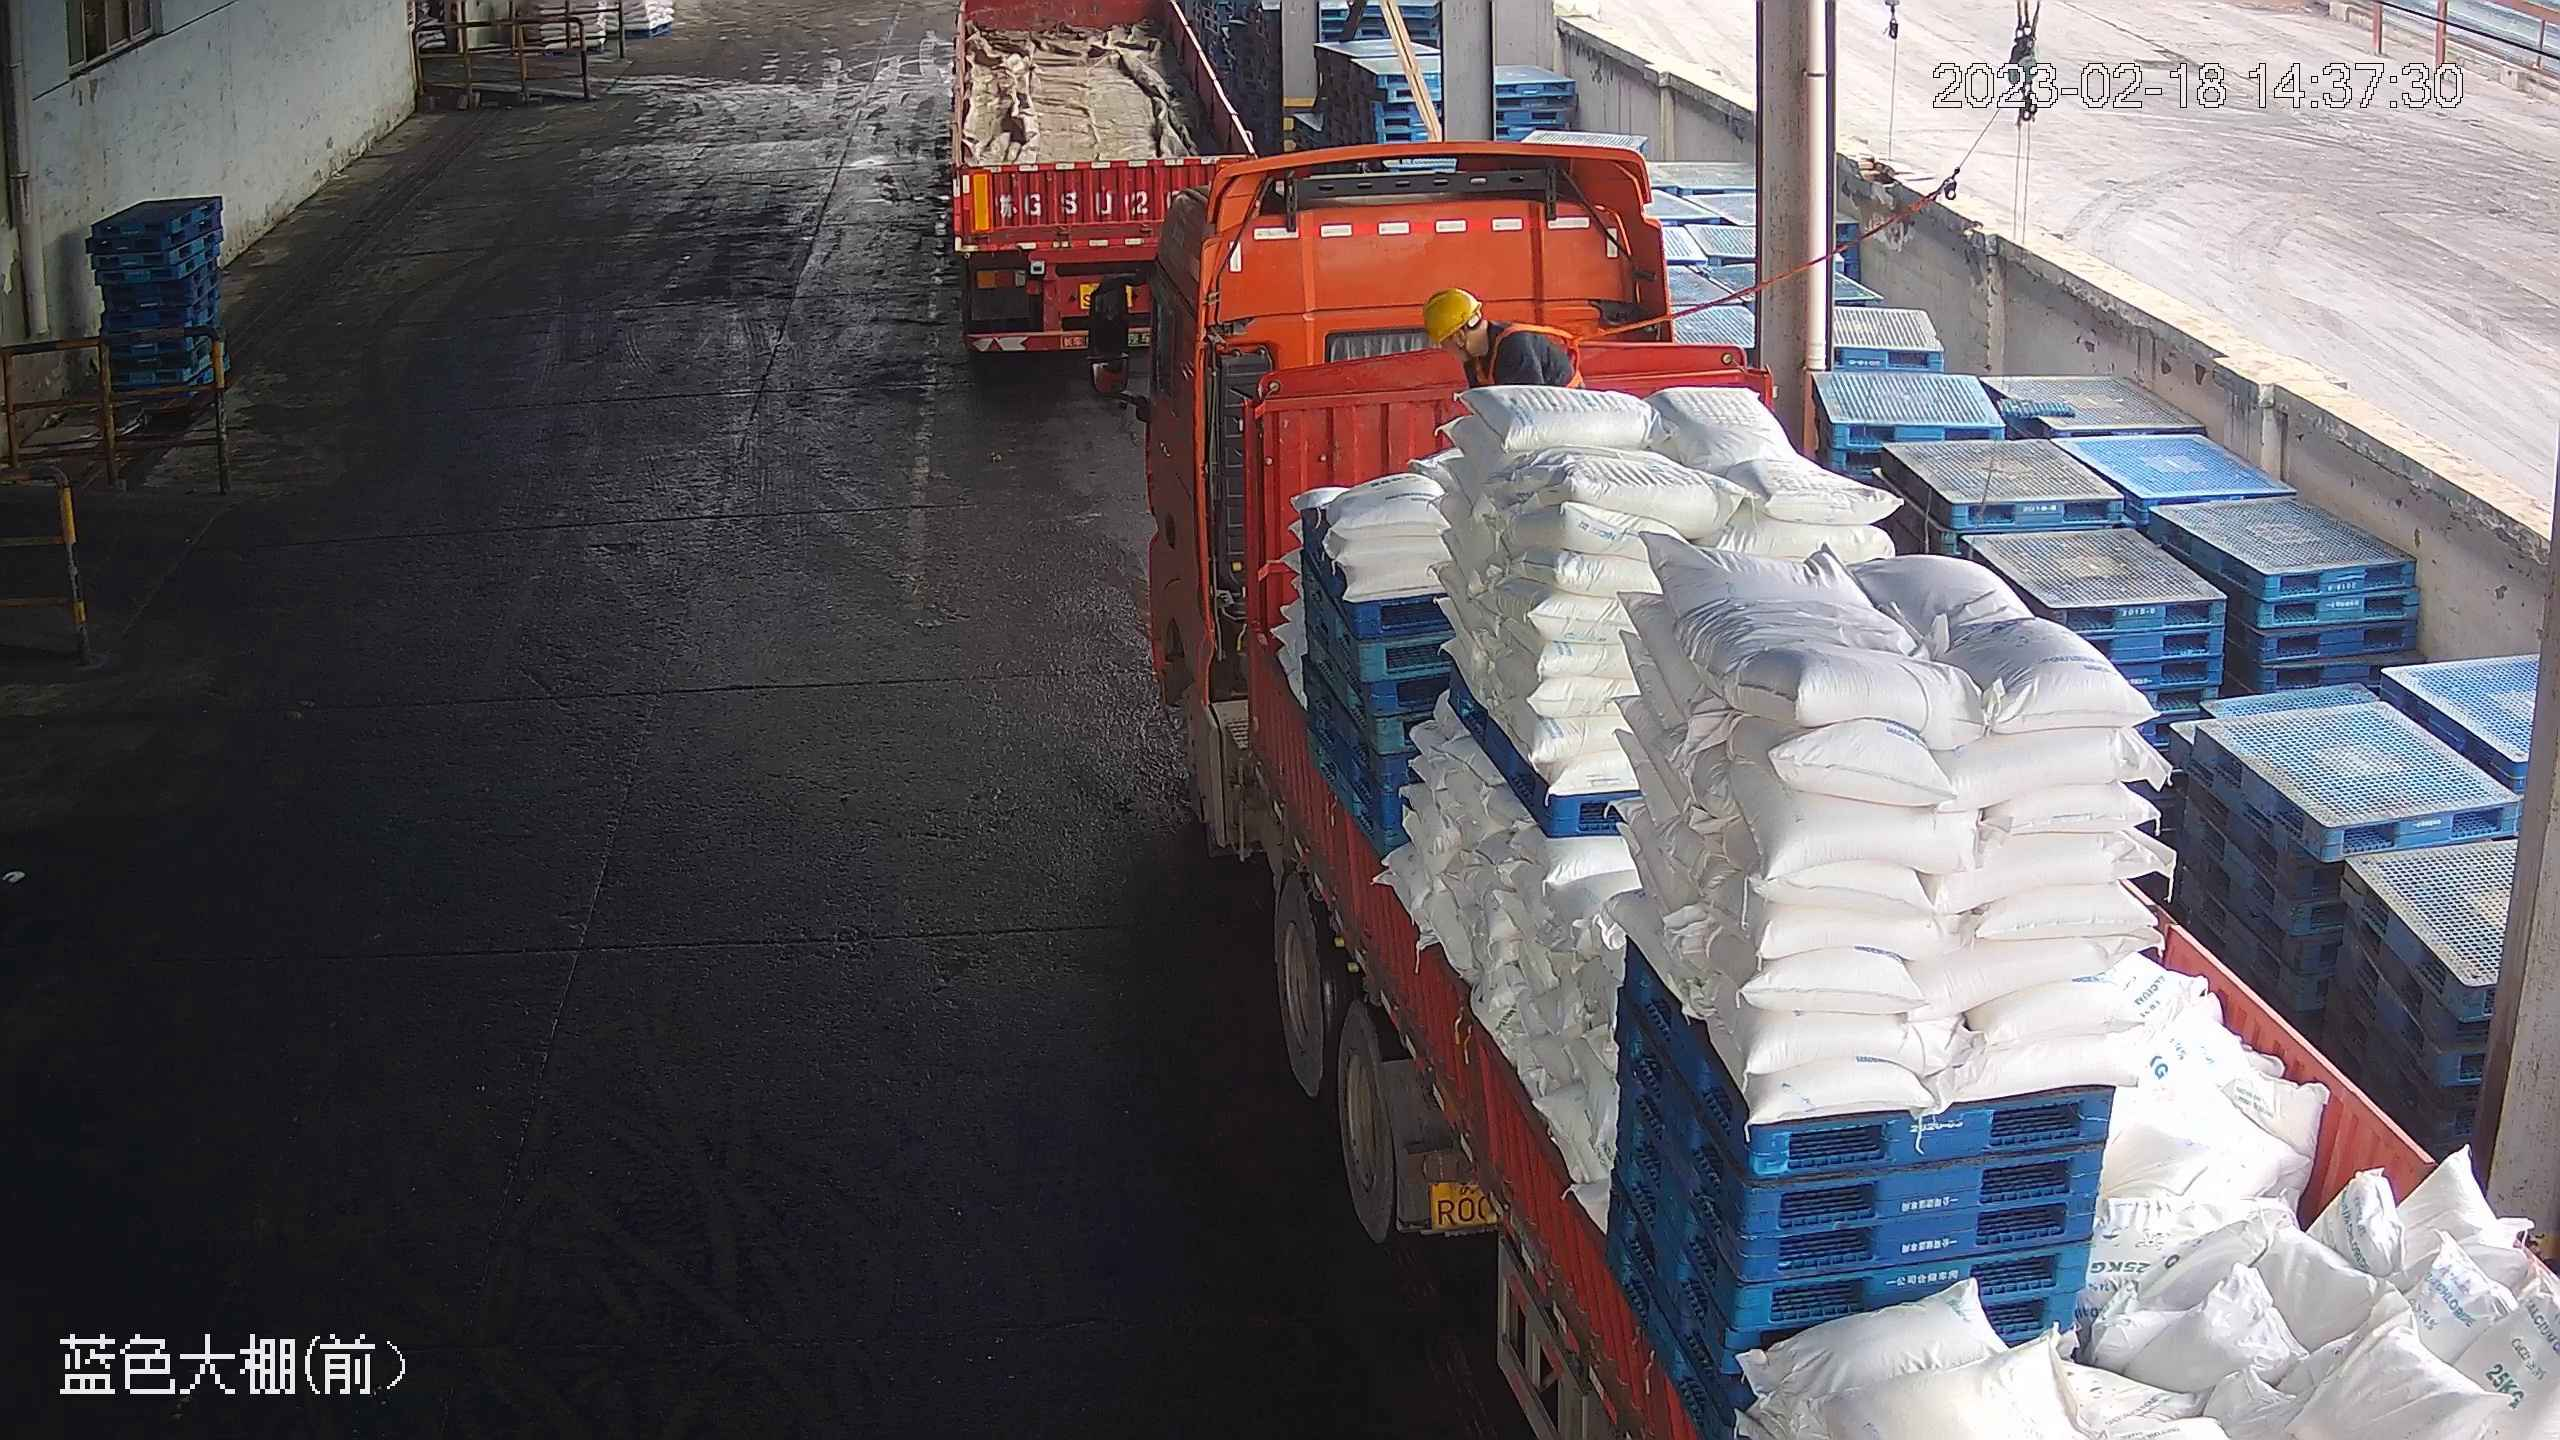belt: (1471, 324, 1596, 393)
head: (1419, 282, 1551, 374)
helmet: (1420, 283, 1481, 345)
truck: (1148, 152, 2560, 1440), (932, 2, 1263, 380)
